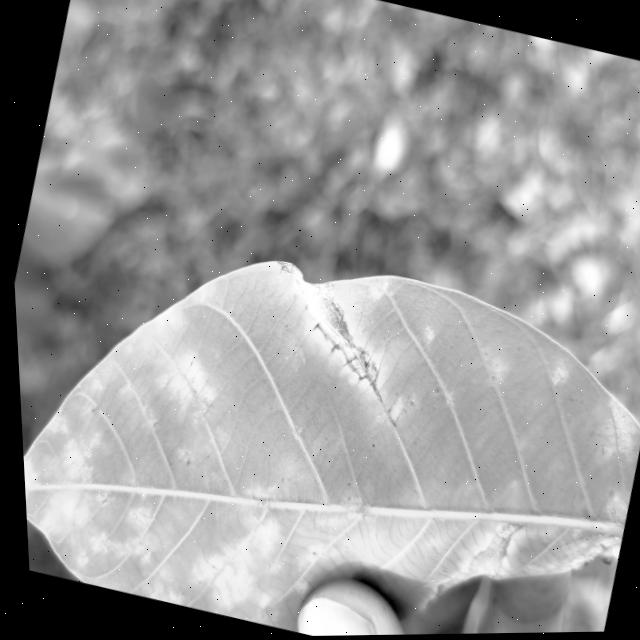Leaf-Blight: (251, 257, 395, 386), (419, 509, 517, 620)
